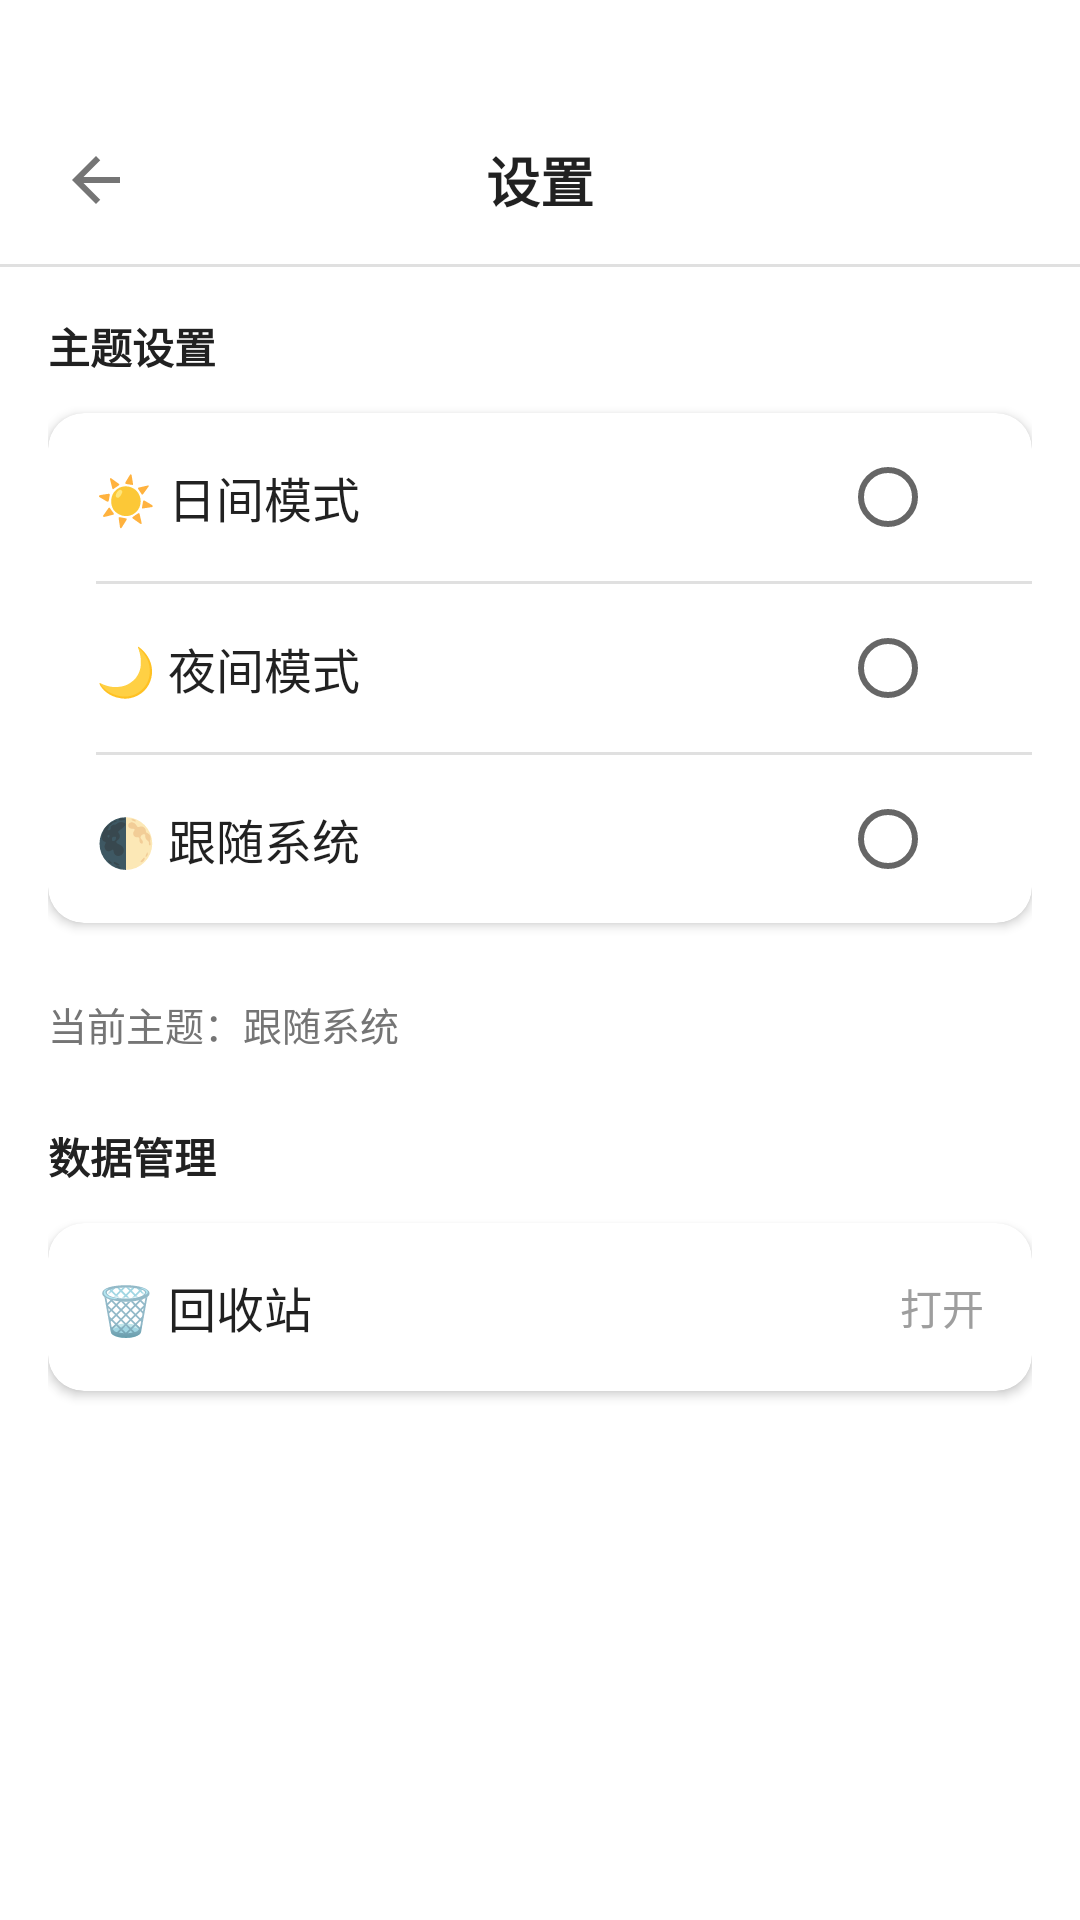

Icon click points for this 1080px x 1920px phone screenshot, format (x=x, y=y):
返回: (x=96, y=180)
